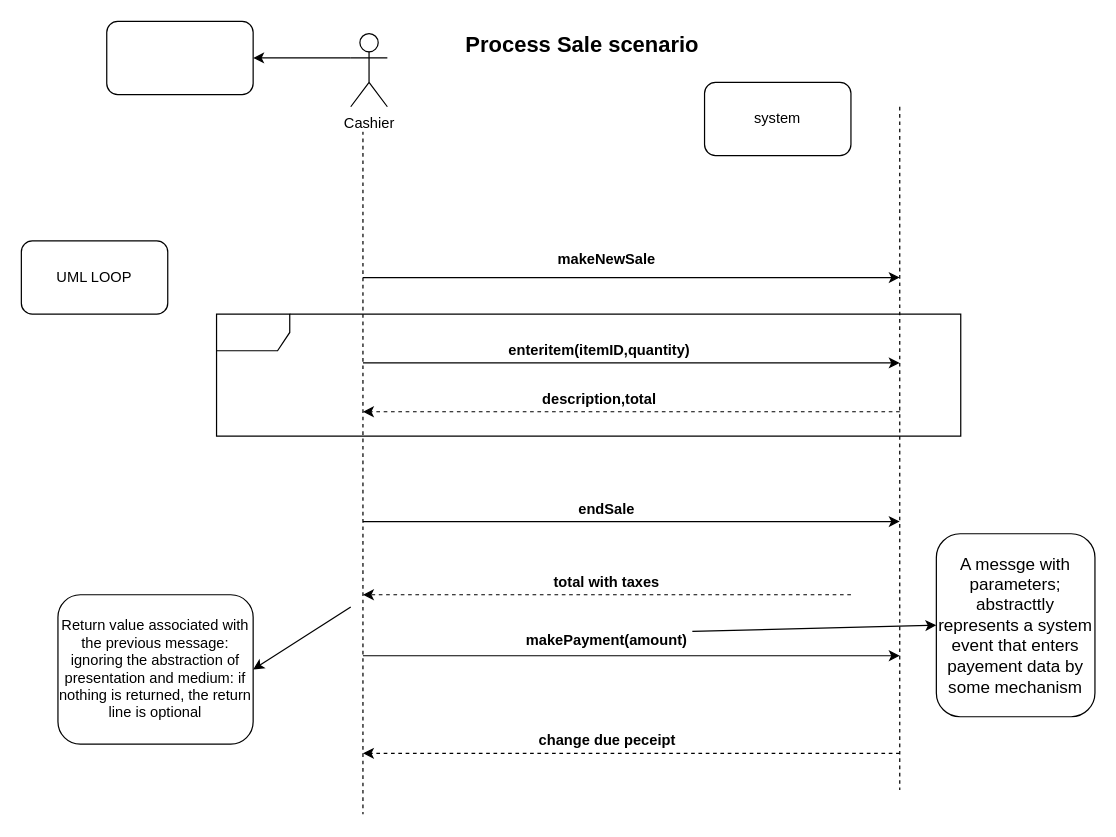
Image size: 1116x837. Some labels were removed from this diagram. Here are the shapes that lost their labels. From the top down, the box of each, then its label:
(106, 20, 253, 95): external actors of the system
(215, 313, 961, 436): LOOP
